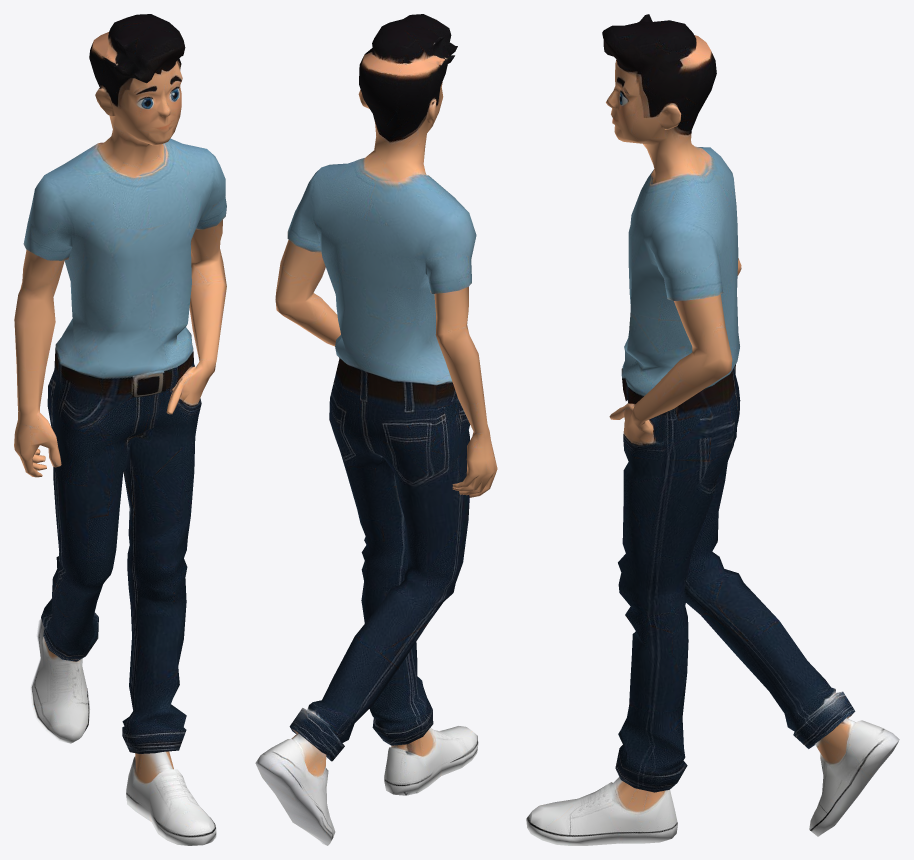
The model's file is ped_man.glb.
3 views of the same model, side by side, from view 1: azimuth 30°, elevation 25°; view 2: azimuth 150°, elevation 25°; view 3: azimuth 270°, elevation 25° (orthographic). The views are drawn at different scales.
Bounding box in the file's own units: 0.2695 × 0.9521 × 0.3989.
1 material, 1 textured.
